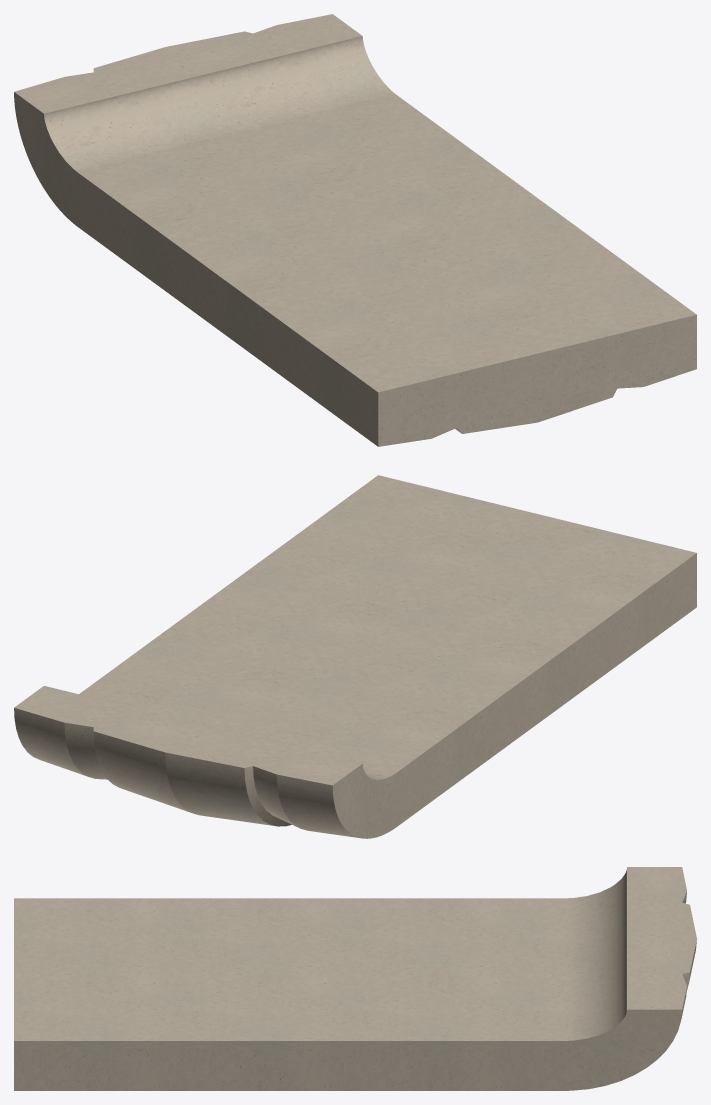
The picture shows the model from 3 angles, top to bottom: view 1: azimuth 30°, elevation 25°; view 2: azimuth 150°, elevation 25°; view 3: azimuth 270°, elevation 25°; orthographic projection. The views are drawn at different scales.
Visible parts, largest first — view 1: F4.SLDPRT; view 2: F4.SLDPRT; view 3: F4.SLDPRT.
Part boxes in pixels (x1=…): F4.SLDPRT: x1=14, y1=14, x2=696, y2=446; F4.SLDPRT: x1=14, y1=475, x2=696, y2=838; F4.SLDPRT: x1=14, y1=867, x2=696, y2=1090.
Size of the model in its own units: 0.245 by 0.0757 by 0.4957.
Materials: 1 (1 with a texture image).
